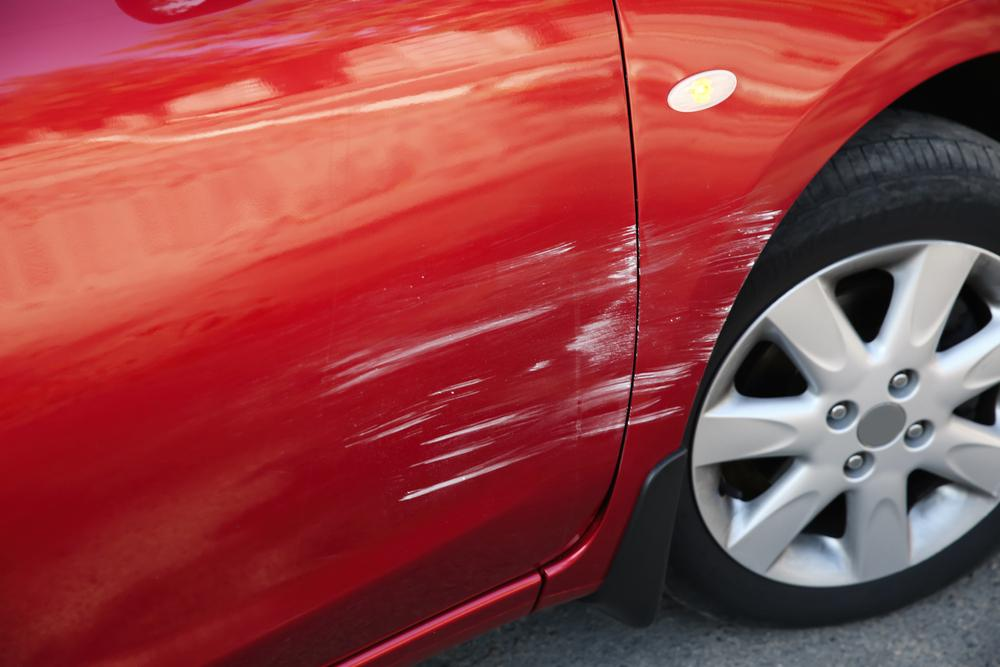scratch: (315, 222, 640, 510), (625, 199, 791, 432)
